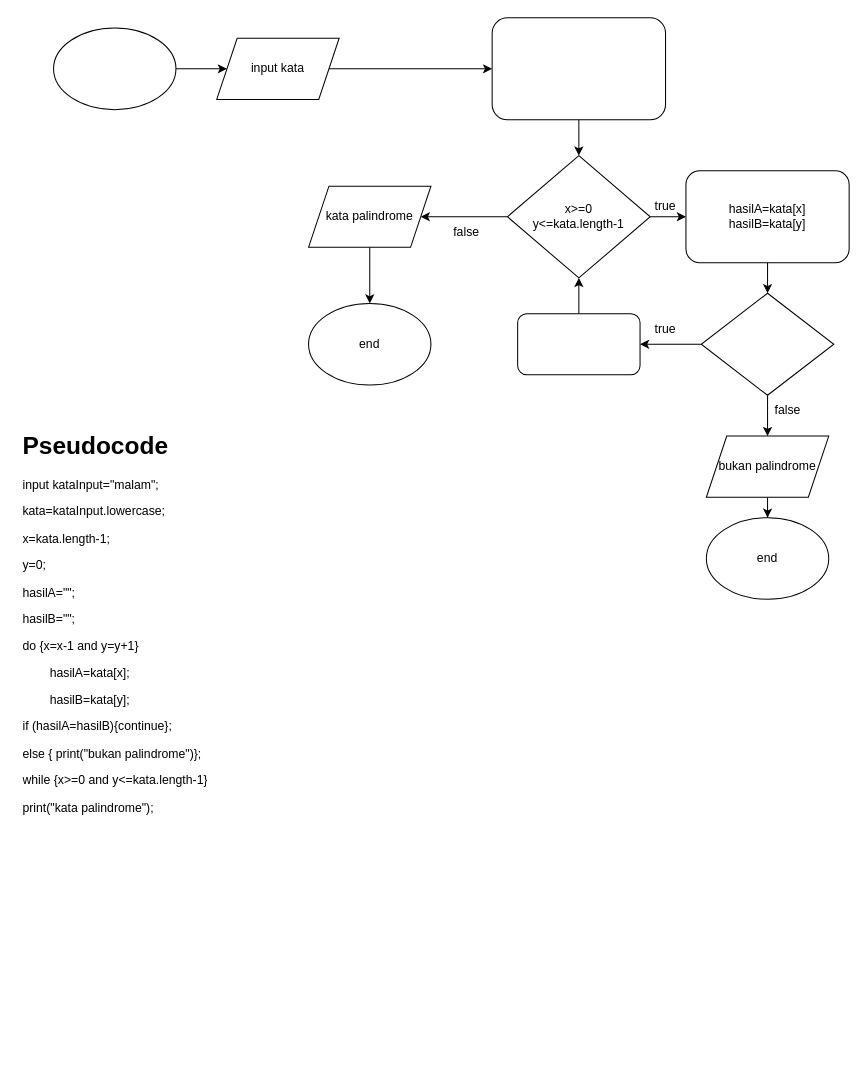
This 867x1066 diagram has some shape labels left out. The shapes that lost their labels are listed below. From the top down, each one's centre as x and y in pixels, then its label:
[114,68]: start
[578,68]: ubah kata menjadi lowercase; x=kata.length-1; y=0; hasilA=" "; hasilB=" ";
[578,344]: x=x-1 y=y+1
[767,343]: if hasilA=hasilB
